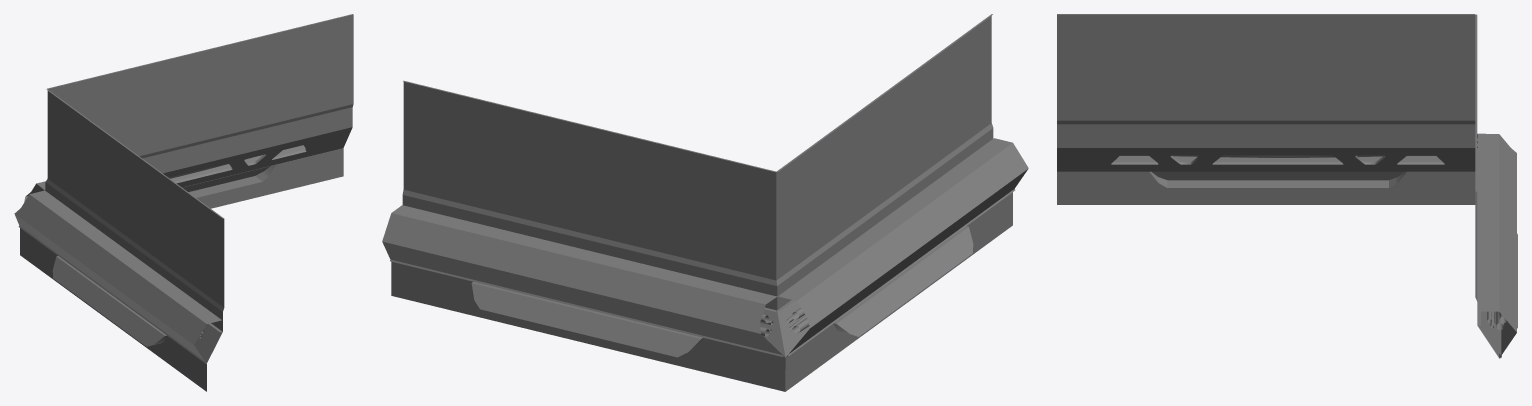
Rendered from q-scifi-mod-topcables-corner-square-inner.glb.
The picture shows the model from 3 angles, left to right: view 1: azimuth 30°, elevation 25°; view 2: azimuth 150°, elevation 25°; view 3: azimuth 270°, elevation 25°; orthographic projection. The views are drawn at different scales.
Visible parts, largest first — view 1: TopCables_Corner_Square_Inner; view 2: TopCables_Corner_Square_Inner; view 3: TopCables_Corner_Square_Inner.
Boxes of the visible parts, x1=… form: TopCables_Corner_Square_Inner: x1=14, y1=14, x2=353, y2=391; TopCables_Corner_Square_Inner: x1=382, y1=14, x2=1028, y2=391; TopCables_Corner_Square_Inner: x1=1057, y1=14, x2=1517, y2=358.
Size of the model in its own units: 4.17 by 2 by 4.17.
Materials: 4 (4 with a texture image).
